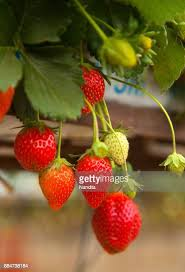ripe: (92, 192, 144, 259), (14, 118, 63, 173), (77, 138, 116, 205), (37, 153, 78, 216), (77, 55, 112, 108), (1, 64, 20, 142)
unripe: (96, 27, 142, 70), (102, 125, 132, 165), (114, 175, 140, 204), (166, 149, 185, 178)
